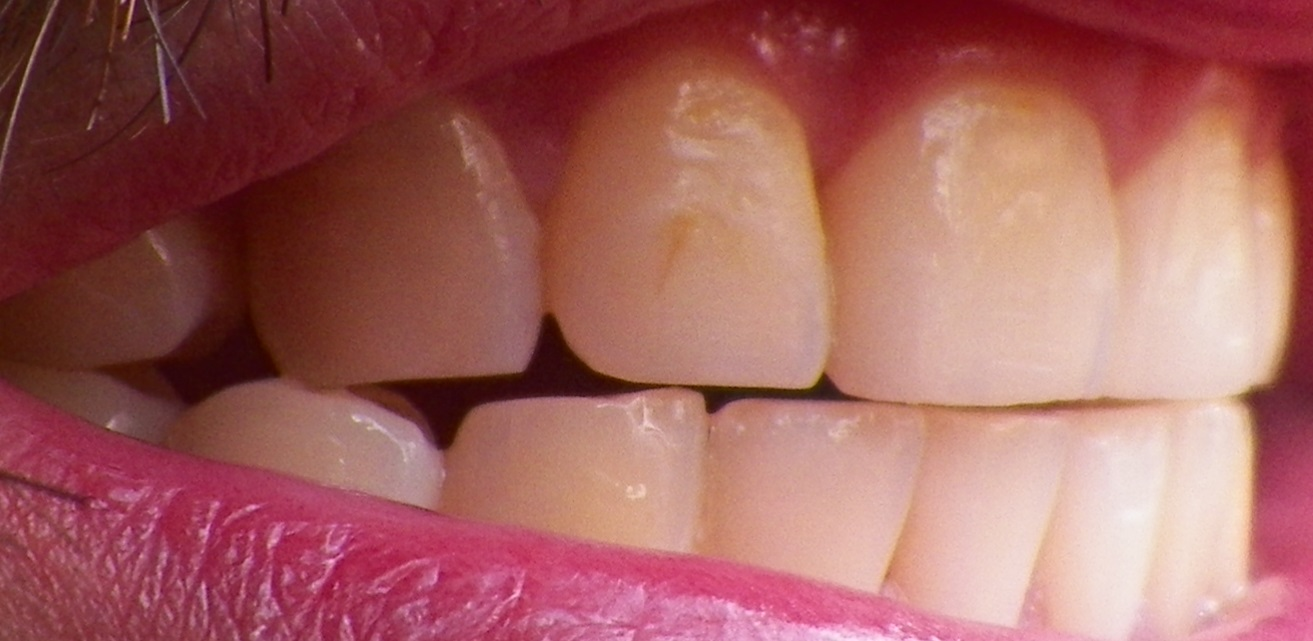boca: (25, 83, 1285, 618)
